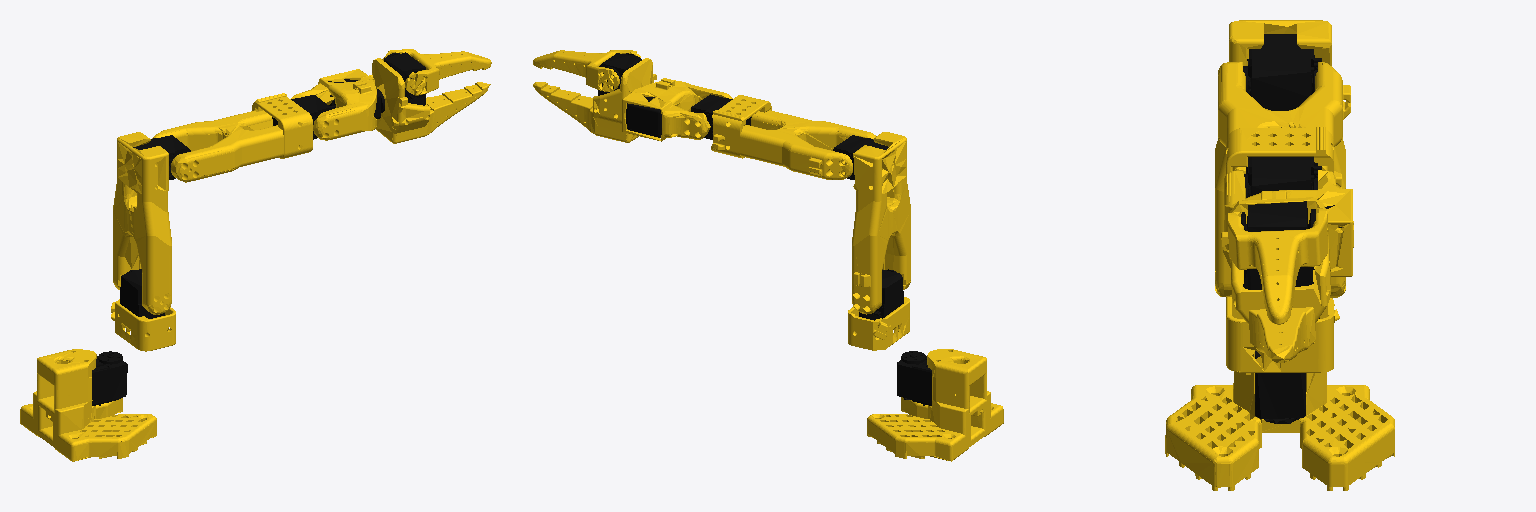
robot.urdf — so101:
<?xml version='1.0' encoding='utf-8'?>
<robot name="so101">
  <material name="3d_printed">
    <color rgba="1.0 0.82 0.12 1.0" />
  </material>
  <material name="sts3215">
    <color rgba="0.1 0.1 0.1 1.0" />
  </material>
  <link name="base_link">
    <inertial>
      <origin xyz="0.0137179 -5.19711e-05 0.0334843" rpy="0 0 0" />
      <mass value="0.147" />
      <inertia ixx="0.000114686" ixy="-4.59787e-07" ixz="4.97151e-06" iyy="0.000136117" iyz="9.75275e-08" izz="0.000130364" />
    </inertial>
    <visual>
      <origin xyz="-0.00636471 -9.94414e-05 -0.0024" rpy="1.5708 -1.67685e-15 1.5708" />
      <geometry>
        <mesh filename="meshes/base_motor_holder_so101_v1.stl" />
      </geometry>
      <material name="3d_printed" />
    </visual>
    <collision>
      <origin xyz="-0.00636471 -9.94414e-05 -0.0024" rpy="1.5708 -1.67685e-15 1.5708" />
      <geometry>
        <mesh filename="meshes/base_motor_holder_so101_v1.stl" />
      </geometry>
    </collision>
    <visual>
      <origin xyz="-0.00636471 -8.97657e-09 -0.0024" rpy="1.5708 -2.78073e-29 1.5708" />
      <geometry>
        <mesh filename="meshes/base_so101_v2.stl" />
      </geometry>
      <material name="3d_printed" />
    </visual>
    <collision>
      <origin xyz="-0.00636471 -8.97657e-09 -0.0024" rpy="1.5708 -2.78073e-29 1.5708" />
      <geometry>
        <mesh filename="meshes/base_so101_v2.stl" />
      </geometry>
    </collision>
    <visual>
      <origin xyz="0.0263353 -8.97657e-09 0.0437" rpy="-8.21148e-16 7.84513e-18 1.249e-15" />
      <geometry>
        <mesh filename="meshes/sts3215_03a_v1.stl" />
      </geometry>
      <material name="sts3215" />
    </visual>
    <collision>
      <origin xyz="0.0263353 -8.97657e-09 0.0437" rpy="-8.21148e-16 7.84513e-18 1.249e-15" />
      <geometry>
        <mesh filename="meshes/sts3215_03a_v1.stl" />
      </geometry>
    </collision>
    <visual>
      <origin xyz="-0.0309827 -0.000199441 0.0474" rpy="1.5708 -1.35493e-14 1.5708" />
      <geometry>
        <mesh filename="meshes/waveshare_mounting_plate_so101_v2.stl" />
      </geometry>
      <material name="3d_printed" />
    </visual>
    <collision>
      <origin xyz="-0.0309827 -0.000199441 0.0474" rpy="1.5708 -1.35493e-14 1.5708" />
      <geometry>
        <mesh filename="meshes/waveshare_mounting_plate_so101_v2.stl" />
      </geometry>
    </collision>
  </link>
  <link name="shoulder_link">
    <inertial>
      <origin xyz="-0.0307604 -1.66727e-05 -0.0252713" rpy="0 0 0" />
      <mass value="0.100006" />
      <inertia ixx="8.3759e-05" ixy="7.55525e-08" ixz="-1.16342e-06" iyy="8.10403e-05" iyz="1.54663e-07" izz="2.39783e-05" />
    </inertial>
    <visual>
      <origin xyz="-0.0303992 0.000422241 -0.0417" rpy="1.5708 1.5708 0" />
      <geometry>
        <mesh filename="meshes/sts3215_03a_v1.stl" />
      </geometry>
      <material name="sts3215" />
    </visual>
    <collision>
      <origin xyz="-0.0303992 0.000422241 -0.0417" rpy="1.5708 1.5708 0" />
      <geometry>
        <mesh filename="meshes/sts3215_03a_v1.stl" />
      </geometry>
    </collision>
    <visual>
      <origin xyz="-0.0675992 -0.000177759 0.0158499" rpy="1.5708 -1.5708 0" />
      <geometry>
        <mesh filename="meshes/motor_holder_so101_base_v1.stl" />
      </geometry>
      <material name="3d_printed" />
    </visual>
    <collision>
      <origin xyz="-0.0675992 -0.000177759 0.0158499" rpy="1.5708 -1.5708 0" />
      <geometry>
        <mesh filename="meshes/motor_holder_so101_base_v1.stl" />
      </geometry>
    </collision>
    <visual>
      <origin xyz="0.0122008 2.22413e-05 0.0464" rpy="-1.5708 2.35221e-33 0" />
      <geometry>
        <mesh filename="meshes/rotation_pitch_so101_v1.stl" />
      </geometry>
      <material name="3d_printed" />
    </visual>
    <collision>
      <origin xyz="0.0122008 2.22413e-05 0.0464" rpy="-1.5708 2.35221e-33 0" />
      <geometry>
        <mesh filename="meshes/rotation_pitch_so101_v1.stl" />
      </geometry>
    </collision>
  </link>
  <link name="upper_arm_link">
    <inertial>
      <origin xyz="-0.0898471 -0.00838224 0.0184089" rpy="0 0 0" />
      <mass value="0.103" />
      <inertia ixx="4.08002e-05" ixy="-1.97819e-05" ixz="-4.03016e-08" iyy="0.000147318" iyz="8.97326e-09" izz="0.000142487" />
    </inertial>
    <visual>
      <origin xyz="-0.11257 -0.0155 0.0187" rpy="-3.14159 -5.27356e-16 -1.5708" />
      <geometry>
        <mesh filename="meshes/sts3215_03a_v1.stl" />
      </geometry>
      <material name="sts3215" />
    </visual>
    <collision>
      <origin xyz="-0.11257 -0.0155 0.0187" rpy="-3.14159 -5.27356e-16 -1.5708" />
      <geometry>
        <mesh filename="meshes/sts3215_03a_v1.stl" />
      </geometry>
    </collision>
    <visual>
      <origin xyz="-0.065085 0.012 0.0182" rpy="3.14159 -0 -1.30911e-30" />
      <geometry>
        <mesh filename="meshes/upper_arm_so101_v1.stl" />
      </geometry>
      <material name="3d_printed" />
    </visual>
    <collision>
      <origin xyz="-0.065085 0.012 0.0182" rpy="3.14159 -0 -1.30911e-30" />
      <geometry>
        <mesh filename="meshes/upper_arm_so101_v1.stl" />
      </geometry>
    </collision>
  </link>
  <link name="lower_arm_link">
    <inertial>
      <origin xyz="-0.0980701 0.00324376 0.0182831" rpy="0 0 0" />
      <mass value="0.104" />
      <inertia ixx="2.87438e-05" ixy="7.41152e-06" ixz="1.26409e-06" iyy="0.000159844" iyz="-4.90188e-08" izz="0.00014529" />
    </inertial>
    <visual>
      <origin xyz="-0.0648499 -0.032 0.0182" rpy="3.14159 -0 6.67202e-31" />
      <geometry>
        <mesh filename="meshes/under_arm_so101_v1.stl" />
      </geometry>
      <material name="3d_printed" />
    </visual>
    <collision>
      <origin xyz="-0.0648499 -0.032 0.0182" rpy="3.14159 -0 6.67202e-31" />
      <geometry>
        <mesh filename="meshes/under_arm_so101_v1.stl" />
      </geometry>
    </collision>
    <visual>
      <origin xyz="-0.0648499 -0.032 0.018" rpy="-3.14159 -2.55351e-15 -1.83387e-30" />
      <geometry>
        <mesh filename="meshes/motor_holder_so101_wrist_v1.stl" />
      </geometry>
      <material name="3d_printed" />
    </visual>
    <collision>
      <origin xyz="-0.0648499 -0.032 0.018" rpy="-3.14159 -2.55351e-15 -1.83387e-30" />
      <geometry>
        <mesh filename="meshes/motor_holder_so101_wrist_v1.stl" />
      </geometry>
    </collision>
    <visual>
      <origin xyz="-0.1224 0.0052 0.0187" rpy="-3.14159 -7.88861e-31 -3.14159" />
      <geometry>
        <mesh filename="meshes/sts3215_03a_v1.stl" />
      </geometry>
      <material name="sts3215" />
    </visual>
    <collision>
      <origin xyz="-0.1224 0.0052 0.0187" rpy="-3.14159 -7.88861e-31 -3.14159" />
      <geometry>
        <mesh filename="meshes/sts3215_03a_v1.stl" />
      </geometry>
    </collision>
  </link>
  <link name="wrist_link">
    <inertial>
      <origin xyz="-0.000103312 -0.0386143 0.0281156" rpy="0 0 0" />
      <mass value="0.079" />
      <inertia ixx="3.68263e-05" ixy="1.7893e-08" ixz="-5.28128e-08" iyy="2.5391e-05" iyz="3.6412e-06" izz="2.1e-05" />
    </inertial>
    <visual>
      <origin xyz="8.32667e-17 -0.0424 0.0306" rpy="1.5708 1.5708 0" />
      <geometry>
        <mesh filename="meshes/sts3215_03a_no_horn_v1.stl" />
      </geometry>
      <material name="sts3215" />
    </visual>
    <collision>
      <origin xyz="8.32667e-17 -0.0424 0.0306" rpy="1.5708 1.5708 0" />
      <geometry>
        <mesh filename="meshes/sts3215_03a_no_horn_v1.stl" />
      </geometry>
    </collision>
    <visual>
      <origin xyz="0 -0.028 0.0181" rpy="-1.5708 -1.5708 0" />
      <geometry>
        <mesh filename="meshes/wrist_roll_pitch_so101_v2.stl" />
      </geometry>
      <material name="3d_printed" />
    </visual>
    <collision>
      <origin xyz="0 -0.028 0.0181" rpy="-1.5708 -1.5708 0" />
      <geometry>
        <mesh filename="meshes/wrist_roll_pitch_so101_v2.stl" />
      </geometry>
    </collision>
  </link>
  <link name="gripper_link">
    <inertial>
      <origin xyz="0.000213627 0.000245138 -0.025187" rpy="0 0 0" />
      <mass value="0.087" />
      <inertia ixx="2.75087e-05" ixy="-3.35241e-07" ixz="-5.7352e-06" iyy="4.33657e-05" iyz="-5.17847e-08" izz="3.45059e-05" />
    </inertial>
    <visual>
      <origin xyz="0.0077 0.0001 -0.0234" rpy="-1.5708 -5.19179e-17 -1.66533e-16" />
      <geometry>
        <mesh filename="meshes/sts3215_03a_v1.stl" />
      </geometry>
      <material name="sts3215" />
    </visual>
    <collision>
      <origin xyz="0.0077 0.0001 -0.0234" rpy="-1.5708 -5.19179e-17 -1.66533e-16" />
      <geometry>
        <mesh filename="meshes/sts3215_03a_v1.stl" />
      </geometry>
    </collision>
    <visual>
      <origin xyz="8.32667e-17 -0.000218214 0.000949706" rpy="-3.14159 -5.55112e-17 0" />
      <geometry>
        <mesh filename="meshes/wrist_roll_follower_so101_v1.stl" />
      </geometry>
      <material name="3d_printed" />
    </visual>
    <collision>
      <origin xyz="8.32667e-17 -0.000218214 0.000949706" rpy="-3.14159 -5.55112e-17 0" />
      <geometry>
        <mesh filename="meshes/wrist_roll_follower_so101_v1_part1.ply" />
      </geometry>
    </collision>
    <collision>
      <origin xyz="8.32667e-17 -0.000218214 0.000949706" rpy="-3.14159 -5.55112e-17 0" />
      <geometry>
        <mesh filename="meshes/wrist_roll_follower_so101_v1_part2.ply" />
      </geometry>
    </collision>
    <collision>
      <origin xyz="8.32667e-17 -0.000218214 0.000949706" rpy="-3.14159 -5.55112e-17 0" />
      <geometry>
        <mesh filename="meshes/wrist_roll_follower_so101_v1_part3.ply" />
      </geometry>
    </collision>
    <collision>
      <origin xyz="8.32667e-17 -0.000218214 0.000949706" rpy="-3.14159 -5.55112e-17 0" />
      <geometry>
        <mesh filename="meshes/wrist_roll_follower_so101_v1_part4.ply" />
      </geometry>
    </collision>
    <collision>
      <origin xyz="8.32667e-17 -0.000218214 0.000949706" rpy="-3.14159 -5.55112e-17 0" />
      <geometry>
        <mesh filename="meshes/wrist_roll_follower_so101_v1_part5.ply" />
      </geometry>
    </collision>
    <collision>
      <origin xyz="8.32667e-17 -0.000218214 0.000949706" rpy="-3.14159 -5.55112e-17 0" />
      <geometry>
        <mesh filename="meshes/wrist_roll_follower_so101_v1_part6.ply" />
      </geometry>
    </collision>
  </link>
  <link name="gripper_frame_link">
    <origin xyz="0 0 0" rpy="0 -0 0" />
  </link>
  <joint name="gripper_frame_joint" type="fixed">
    <origin xyz="-0.0079 -0.000218121 -0.0981274" rpy="0 3.14159 0" />
    <parent link="gripper_link" />
    <child link="gripper_frame_link" />
    <axis xyz="0 0 0" />
  </joint>
  <link name="moving_jaw_so101_v1_link">
    <inertial>
      <origin xyz="-0.00157495 -0.0300244 0.0192755" rpy="0 0 0" />
      <mass value="0.012" />
      <inertia ixx="6.61427e-06" ixy="-3.19807e-07" ixz="-5.90717e-09" iyy="1.89032e-06" iyz="-1.09945e-07" izz="5.28738e-06" />
    </inertial>
    <visual>
      <origin xyz="-5.55112e-17 -5.55112e-17 0.0189" rpy="9.53145e-17 6.93889e-18 1.24077e-24" />
      <geometry>
        <mesh filename="meshes/moving_jaw_so101_v1.stl" />
      </geometry>
      <material name="3d_printed" />
    </visual>
    <collision>
      <origin xyz="-5.55112e-17 -5.55112e-17 0.0189" rpy="9.53145e-17 6.93889e-18 1.24077e-24" />
      <geometry>
        <mesh filename="meshes/moving_jaw_so101_v1_part1.ply" />
      </geometry>
    </collision>
    <collision>
      <origin xyz="-5.55112e-17 -5.55112e-17 0.0189" rpy="9.53145e-17 6.93889e-18 1.24077e-24" />
      <geometry>
        <mesh filename="meshes/moving_jaw_so101_v1_part2.ply" />
      </geometry>
    </collision>
    <collision>
      <origin xyz="-5.55112e-17 -5.55112e-17 0.0189" rpy="9.53145e-17 6.93889e-18 1.24077e-24" />
      <geometry>
        <mesh filename="meshes/moving_jaw_so101_v1_part3.ply" />
      </geometry>
    </collision>
    <collision>
      <origin xyz="-5.55112e-17 -5.55112e-17 0.0189" rpy="9.53145e-17 6.93889e-18 1.24077e-24" />
      <geometry>
        <mesh filename="meshes/moving_jaw_so101_v1_part4.ply" />
      </geometry>
    </collision>
    <collision>
      <origin xyz="-5.55112e-17 -5.55112e-17 0.0189" rpy="9.53145e-17 6.93889e-18 1.24077e-24" />
      <geometry>
        <mesh filename="meshes/moving_jaw_so101_v1_part5.ply" />
      </geometry>
    </collision>
    <collision>
      <origin xyz="-5.55112e-17 -5.55112e-17 0.0189" rpy="9.53145e-17 6.93889e-18 1.24077e-24" />
      <geometry>
        <mesh filename="meshes/moving_jaw_so101_v1_part6.ply" />
      </geometry>
    </collision>
  </link>
  <joint name="gripper" type="revolute">
    <origin xyz="0.0202 0.0188 -0.0234" rpy="1.5708 -5.24284e-08 -1.41553e-15" />
    <parent link="gripper_link" />
    <child link="moving_jaw_so101_v1_link" />
    <axis xyz="0 0 1" />
    <limit effort="10" velocity="10" lower="-0.174533" upper="1.74533" />
  </joint>
  <transmission name="gripper_trans">
    <type>transmission_interface/SimpleTransmission</type>
    <joint name="gripper">
      <hardwareInterface>hardware_interface/PositionJointInterface</hardwareInterface>
    </joint>
    <actuator name="motor6">
      <hardwareInterface>hardware_interface/PositionJointInterface</hardwareInterface>
      <mechanicalReduction>1</mechanicalReduction>
    </actuator>
  </transmission>
  <joint name="wrist_roll" type="revolute">
    <origin xyz="5.55112e-17 -0.0611 0.0181" rpy="1.5708 0.0486795 3.14159" />
    <parent link="wrist_link" />
    <child link="gripper_link" />
    <axis xyz="0 0 1" />
    <limit effort="10" velocity="10" lower="-2.74385" upper="2.84121" />
  </joint>
  <transmission name="wrist_roll_trans">
    <type>transmission_interface/SimpleTransmission</type>
    <joint name="wrist_roll">
      <hardwareInterface>hardware_interface/PositionJointInterface</hardwareInterface>
    </joint>
    <actuator name="motor5">
      <hardwareInterface>hardware_interface/PositionJointInterface</hardwareInterface>
      <mechanicalReduction>1</mechanicalReduction>
    </actuator>
  </transmission>
  <joint name="wrist_flex" type="revolute">
    <origin xyz="-0.1349 0.0052 3.62355e-17" rpy="4.02456e-15 8.67362e-16 -1.5708" />
    <parent link="lower_arm_link" />
    <child link="wrist_link" />
    <axis xyz="0 0 1" />
    <limit effort="10" velocity="10" lower="-1.65806" upper="1.65806" />
  </joint>
  <transmission name="wrist_flex_trans">
    <type>transmission_interface/SimpleTransmission</type>
    <joint name="wrist_flex">
      <hardwareInterface>hardware_interface/PositionJointInterface</hardwareInterface>
    </joint>
    <actuator name="motor4">
      <hardwareInterface>hardware_interface/PositionJointInterface</hardwareInterface>
      <mechanicalReduction>1</mechanicalReduction>
    </actuator>
  </transmission>
  <joint name="elbow_flex" type="revolute">
    <origin xyz="-0.11257 -0.028 1.73763e-16" rpy="-3.63608e-16 8.74301e-16 1.5708" />
    <parent link="upper_arm_link" />
    <child link="lower_arm_link" />
    <axis xyz="0 0 1" />
    <limit effort="10" velocity="10" lower="-1.69" upper="1.69" />
  </joint>
  <transmission name="elbow_flex_trans">
    <type>transmission_interface/SimpleTransmission</type>
    <joint name="elbow_flex">
      <hardwareInterface>hardware_interface/PositionJointInterface</hardwareInterface>
    </joint>
    <actuator name="motor3">
      <hardwareInterface>hardware_interface/PositionJointInterface</hardwareInterface>
      <mechanicalReduction>1</mechanicalReduction>
    </actuator>
  </transmission>
  <joint name="shoulder_lift" type="revolute">
    <origin xyz="-0.0303992 -0.0182778 -0.0542" rpy="-1.5708 -1.5708 0" />
    <parent link="shoulder_link" />
    <child link="upper_arm_link" />
    <axis xyz="0 0 1" />
    <limit effort="10" velocity="10" lower="-1.74533" upper="1.74533" />
  </joint>
  <transmission name="shoulder_lift_trans">
    <type>transmission_interface/SimpleTransmission</type>
    <joint name="shoulder_lift">
      <hardwareInterface>hardware_interface/PositionJointInterface</hardwareInterface>
    </joint>
    <actuator name="motor2">
      <hardwareInterface>hardware_interface/PositionJointInterface</hardwareInterface>
      <mechanicalReduction>1</mechanicalReduction>
    </actuator>
  </transmission>
  <joint name="shoulder_pan" type="revolute">
    <origin xyz="0.0388353 -8.97657e-09 0.0624" rpy="3.14159 4.18253e-17 -3.14159" />
    <parent link="base_link" />
    <child link="shoulder_link" />
    <axis xyz="0 0 1" />
    <limit effort="10" velocity="10" lower="-1.91986" upper="1.91986" />
  </joint>
  <transmission name="shoulder_pan_trans">
    <type>transmission_interface/SimpleTransmission</type>
    <joint name="shoulder_pan">
      <hardwareInterface>hardware_interface/PositionJointInterface</hardwareInterface>
    </joint>
    <actuator name="motor1">
      <hardwareInterface>hardware_interface/PositionJointInterface</hardwareInterface>
      <mechanicalReduction>1</mechanicalReduction>
    </actuator>
  </transmission>
  <link name="moving_jaw_tip" />
  <joint name="moving_jaw_tip_joint" type="fixed">
    <origin xyz="-0.00994 -0.08075 0.01888" rpy="0 0 0" />
    <parent link="moving_jaw_so101_v1_link" />
    <child link="moving_jaw_tip" />
  </joint>
</robot>

--- Facts derived from the render (not from the file) ---
Views: 3 orthographic renders of the robot side by side, from view 1: azimuth 30°, elevation 25°; view 2: azimuth 150°, elevation 25°; view 3: azimuth 270°, elevation 25°.
Model so101 with 9 links and 8 joints (6 revolute, 2 fixed), rooted at base_link, posed all joints at 0.
Visible links, largest first — view 1: base_link, upper_arm_link, lower_arm_link, gripper_link, wrist_link, shoulder_link, moving_jaw_so101_v1_link; view 2: base_link, upper_arm_link, lower_arm_link, wrist_link, gripper_link, shoulder_link, moving_jaw_so101_v1_link; view 3: base_link, lower_arm_link, upper_arm_link, gripper_link, moving_jaw_so101_v1_link, wrist_link, shoulder_link.
Link boxes in pixels (x1,y1,x2,y2): base_link: [20, 349, 156, 461]; upper_arm_link: [113, 132, 190, 314]; lower_arm_link: [152, 93, 331, 182]; gripper_link: [372, 52, 490, 143]; wrist_link: [291, 69, 384, 140]; shoulder_link: [111, 269, 175, 351]; moving_jaw_so101_v1_link: [382, 49, 491, 95]; base_link: [867, 349, 1003, 461]; upper_arm_link: [833, 132, 910, 314]; lower_arm_link: [691, 94, 875, 179]; wrist_link: [622, 78, 732, 141]; gripper_link: [533, 53, 656, 142]; shoulder_link: [848, 269, 909, 350]; moving_jaw_so101_v1_link: [533, 50, 640, 91]; base_link: [1165, 351, 1394, 490]; lower_arm_link: [1218, 62, 1350, 197]; upper_arm_link: [1215, 20, 1353, 297]; gripper_link: [1221, 197, 1330, 362]; moving_jaw_so101_v1_link: [1228, 208, 1327, 324]; wrist_link: [1224, 170, 1352, 276]; shoulder_link: [1226, 297, 1339, 372].
Size in the robot's own frame: 0.421 by 0.1115 by 0.2685 metres.
14 mesh visuals loaded from 13 distinct referenced files (10 binary STL); not drawn: 3 (reference not matched to a file when rendering).
